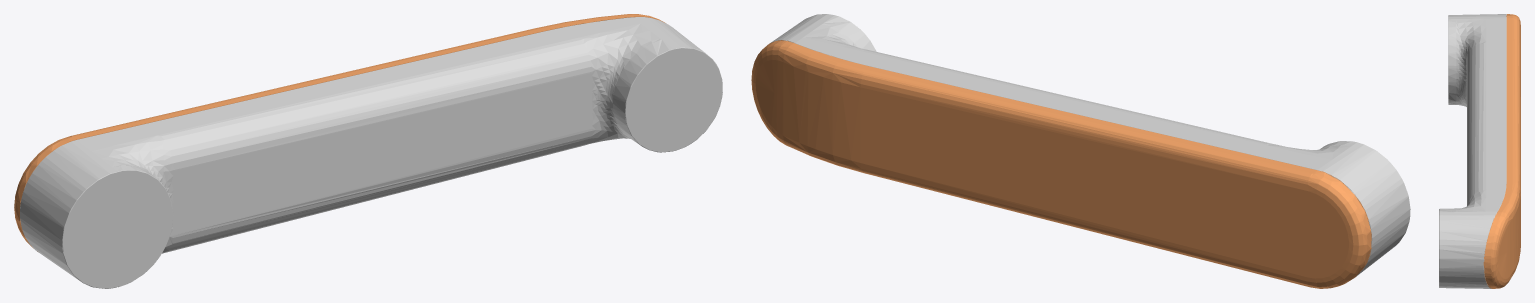
3 views of the same model, side by side, from view 1: azimuth 30°, elevation 25°; view 2: azimuth 150°, elevation 25°; view 3: azimuth 270°, elevation 25° (orthographic). The views are drawn at different scales.
Parts seen in each view (by area): view 1: Link; view 2: Link; view 3: Link.
Boxes of the visible parts, x1,y1,x2,y2 form: Link: (14,14,722,288); Link: (751,14,1410,288); Link: (1439,14,1520,288).
Bounding box in the file's own units: 0.4895 × 0.0846 × 0.0752.
